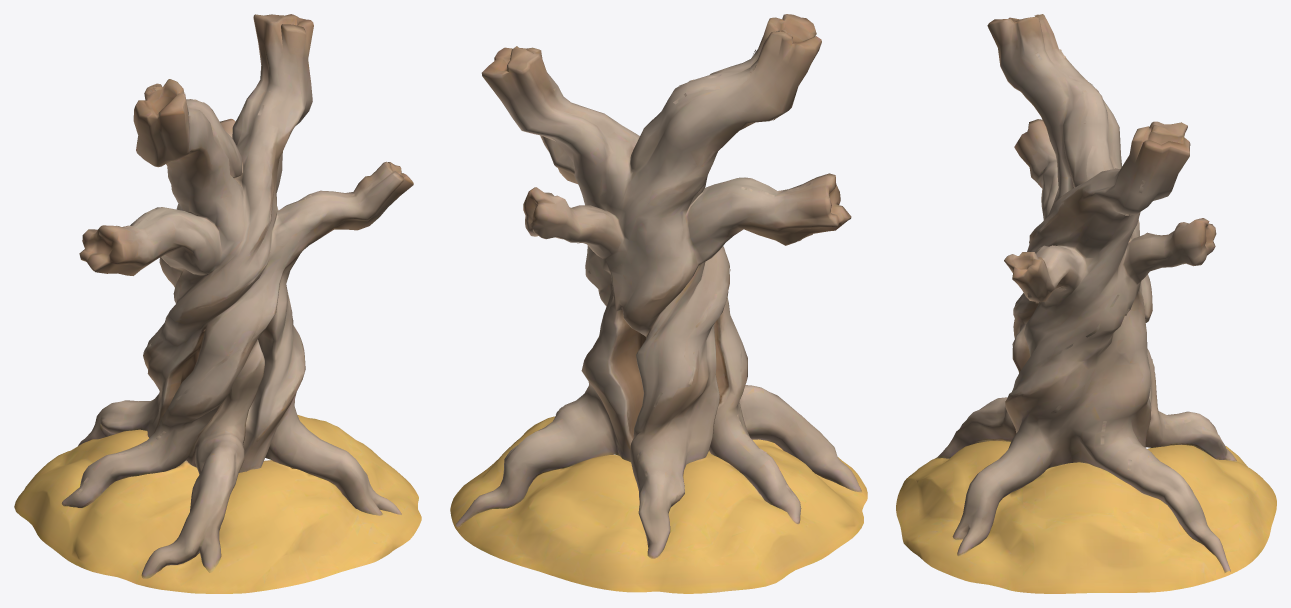
Rendered from SM_Tripo_DesertDeadPoplar.glb.
3 renders of one model, left to right at view 1: azimuth 30°, elevation 25°; view 2: azimuth 150°, elevation 25°; view 3: azimuth 270°, elevation 25°, orthographic. The views are drawn at different scales.
Parts seen in each view (by area): view 1: SM_Tripo_DesertDeadPoplar_LOD0; view 2: SM_Tripo_DesertDeadPoplar_LOD0; view 3: SM_Tripo_DesertDeadPoplar_LOD0.
Boxes of the visible parts, bbox=[...] form: SM_Tripo_DesertDeadPoplar_LOD0: bbox=[14, 14, 421, 593]; SM_Tripo_DesertDeadPoplar_LOD0: bbox=[450, 14, 867, 593]; SM_Tripo_DesertDeadPoplar_LOD0: bbox=[896, 14, 1276, 593].
Bounding box in the file's own units: 4.11 × 5.5 × 4.12.
Materials: 1 (1 with a texture image).
